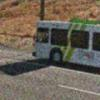buses: (32, 21, 100, 68)
